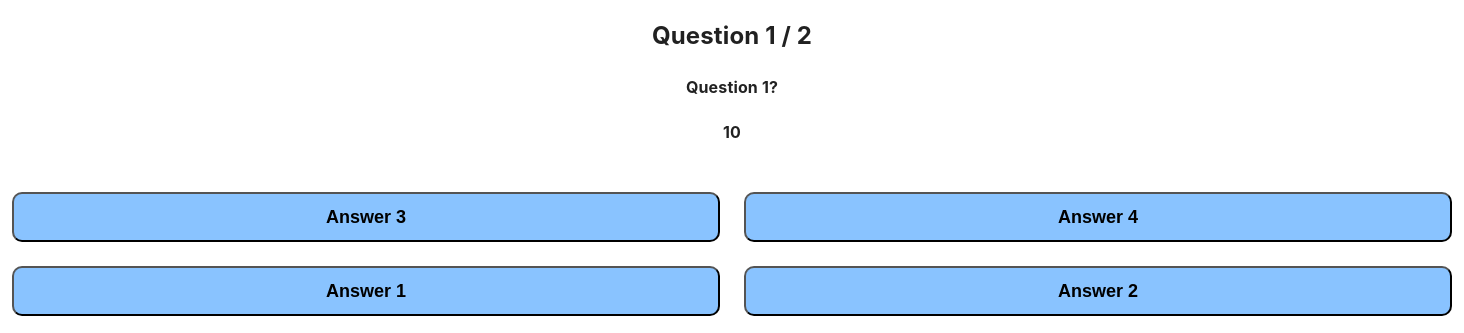
Scenario: PlayingGame component › handles answer clicks correctly
The image size is (1464, 333).
Click the button with test id "answer-Answer 1". click: click(366, 291)
box: [12, 266, 720, 316]
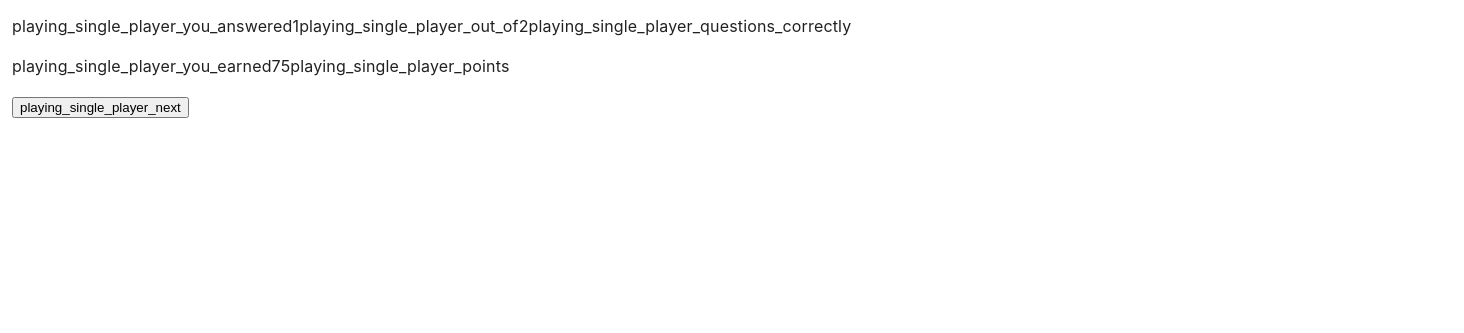
Expected: the text with test id "result" is shown, [12, 16, 851, 36]
